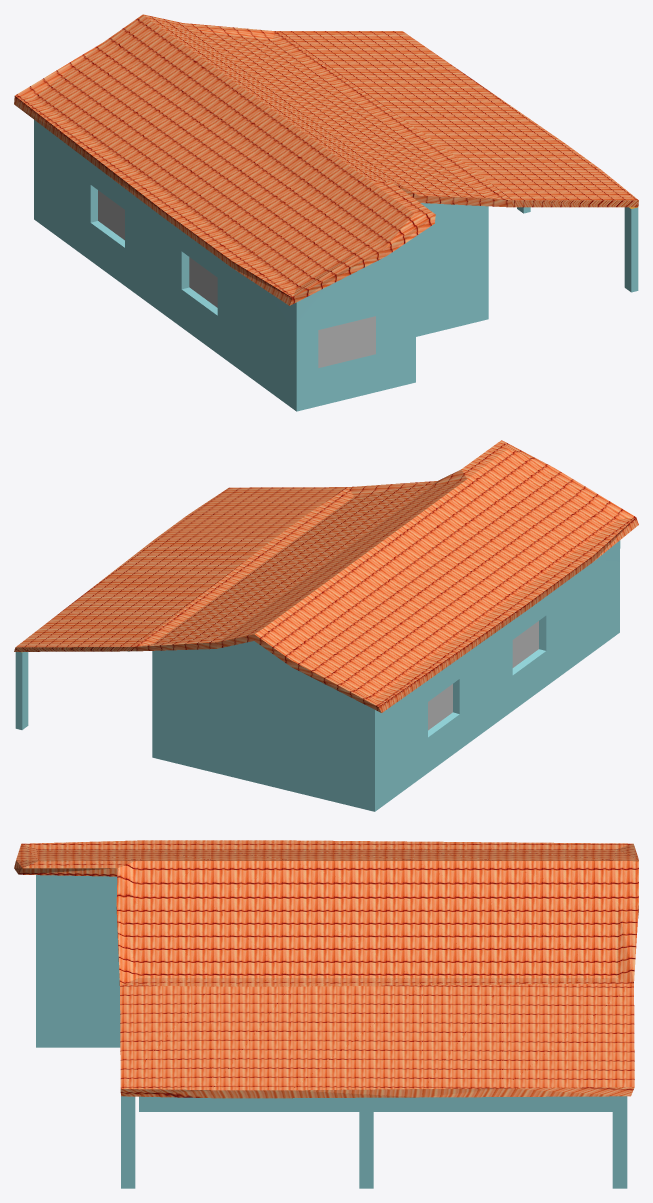
The model's file is Casa3.FBX.
3 renders of one model, top to bottom at view 1: azimuth 30°, elevation 25°; view 2: azimuth 150°, elevation 25°; view 3: azimuth 270°, elevation 25°, orthographic. The views are drawn at different scales.
Parts seen in each view (by area): view 1: CASA2; view 2: CASA2; view 3: CASA2.
Boxes of the visible parts, bbox=[...] form: CASA2: bbox=[14, 14, 638, 411]; CASA2: bbox=[14, 440, 638, 811]; CASA2: bbox=[14, 840, 638, 1188].
Bounding box in the file's own units: 592 × 238 × 722.
